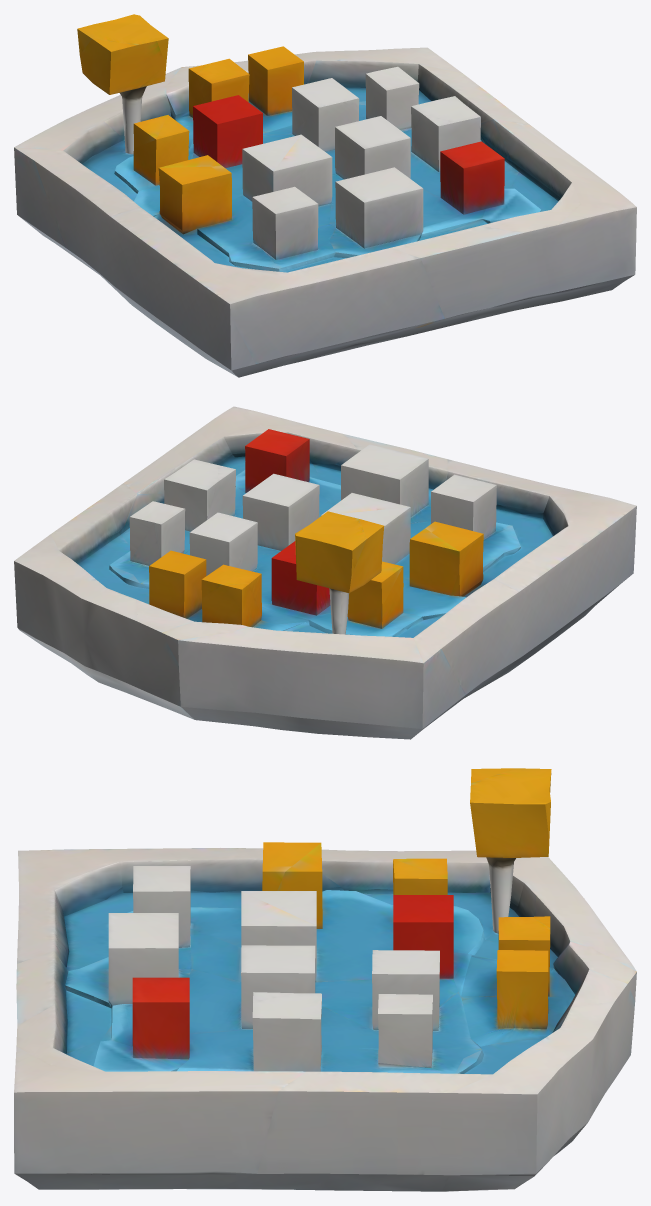
The model's file is m2HexPlatform.glb.
3 views of the same model, one above another, from view 1: azimuth 30°, elevation 25°; view 2: azimuth 150°, elevation 25°; view 3: azimuth 270°, elevation 25° (orthographic). The views are drawn at different scales.
Visible parts, largest first — view 1: model; view 2: model; view 3: model.
Boxes of the visible parts, x1=… form: model: x1=14, y1=14, x2=636, y2=377; model: x1=14, y1=406, x2=636, y2=739; model: x1=14, y1=768, x2=636, y2=1191.
Size of the model in its own units: 1.76 by 0.7686 by 1.89.
Materials: 1 (1 with a texture image).
